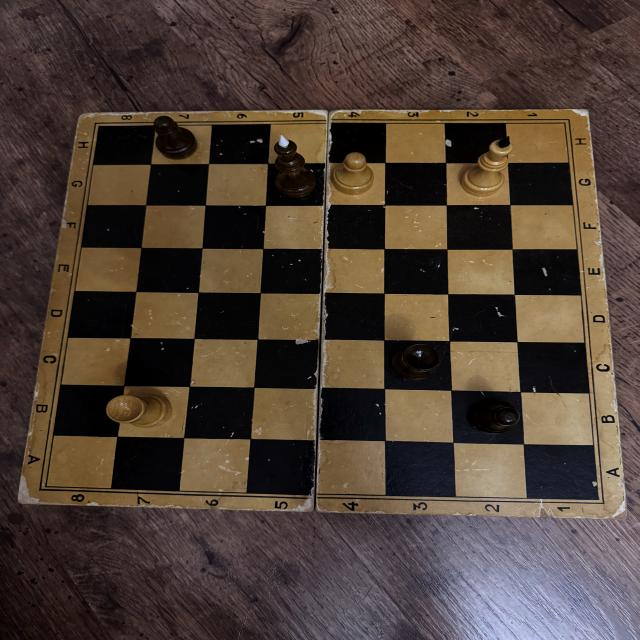black-king: (270, 133, 320, 201)
black-pawn: (152, 114, 198, 160), (467, 398, 519, 435)
black-rook: (385, 342, 444, 384)
white-king: (462, 134, 512, 195)
white-pawn: (331, 151, 376, 195)
white-rook: (106, 392, 173, 428)
